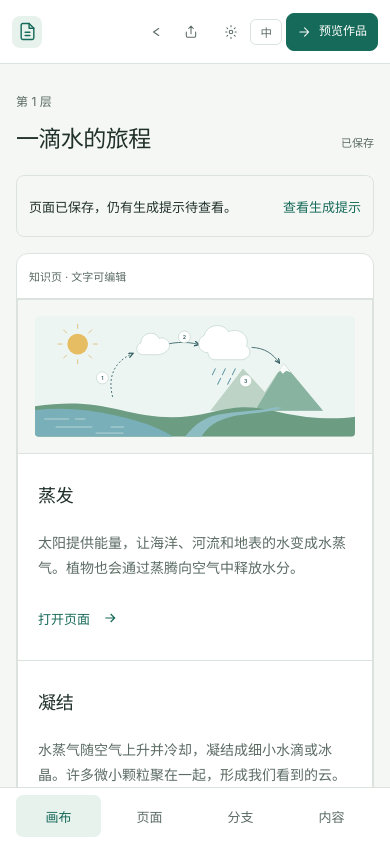
direct local branch workflow › keeps a visible route to partial-generation warnings from the mobile canvas
Expected: the text "页面已保存，仍有生成提示待查看。" is shown, [29,196,237,216]
Step 1. Click the button "查看生成提示" → {"x": 322, "y": 206}, box [283,188,361,224]
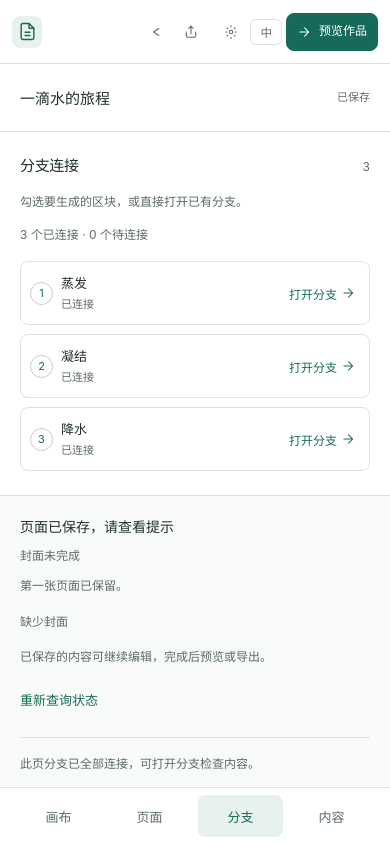
Expected: the text "缺少封面" is shown, [20,614,68,629]
